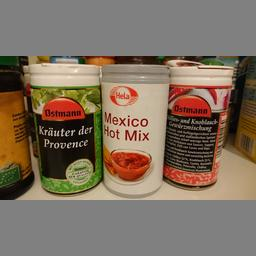spices: (26, 62, 103, 196), (100, 62, 170, 198), (161, 65, 232, 191)
